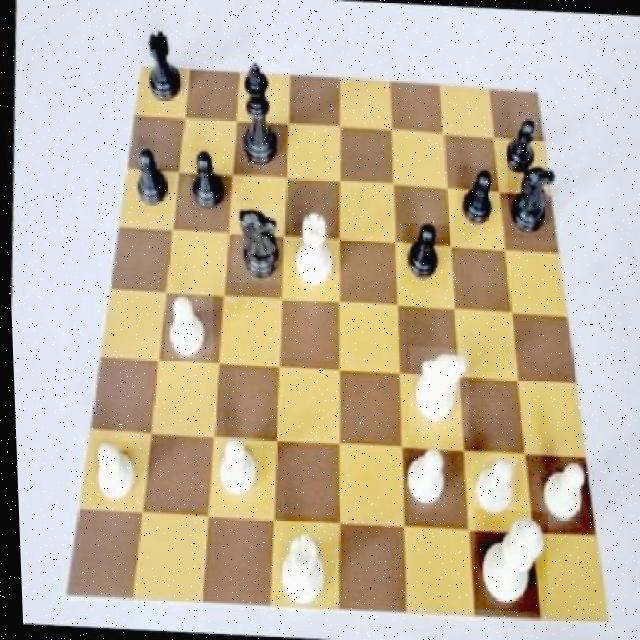black-bishop: (234, 60, 285, 170)
black-king: (229, 203, 285, 286), (502, 166, 561, 240)
black-knight: (452, 166, 504, 233), (399, 223, 450, 288), (132, 137, 171, 215), (497, 117, 538, 186), (186, 148, 227, 214)
black-queen: (135, 23, 191, 116)
white-bishop: (466, 509, 546, 614)
white-king: (402, 348, 469, 438)
white-knight: (532, 456, 587, 532), (159, 290, 212, 362), (208, 434, 262, 503), (399, 448, 452, 514), (464, 456, 515, 520), (87, 440, 135, 508)
white-queen: (265, 530, 330, 612), (286, 204, 340, 294)
